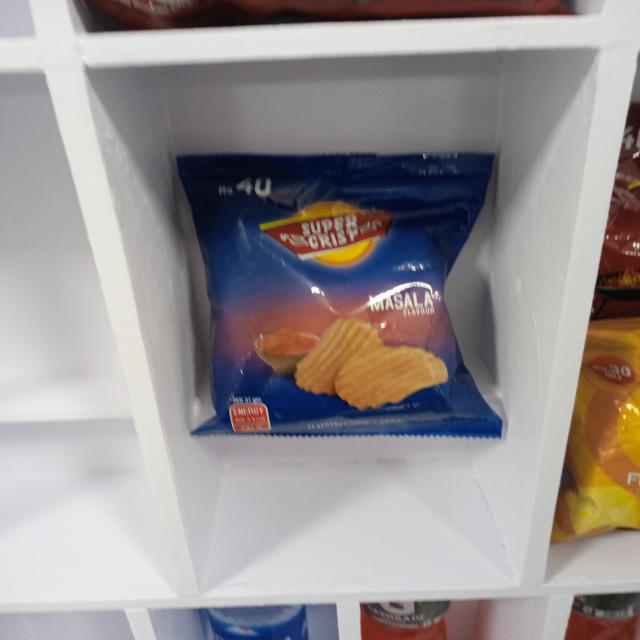Plastic: (213, 157, 452, 432), (587, 326, 636, 536), (214, 608, 308, 639), (367, 606, 444, 638), (578, 598, 634, 638)
